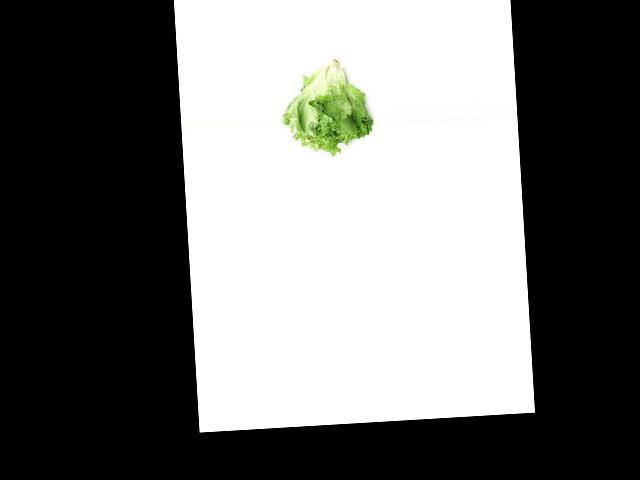lettuce: (273, 47, 372, 160)
